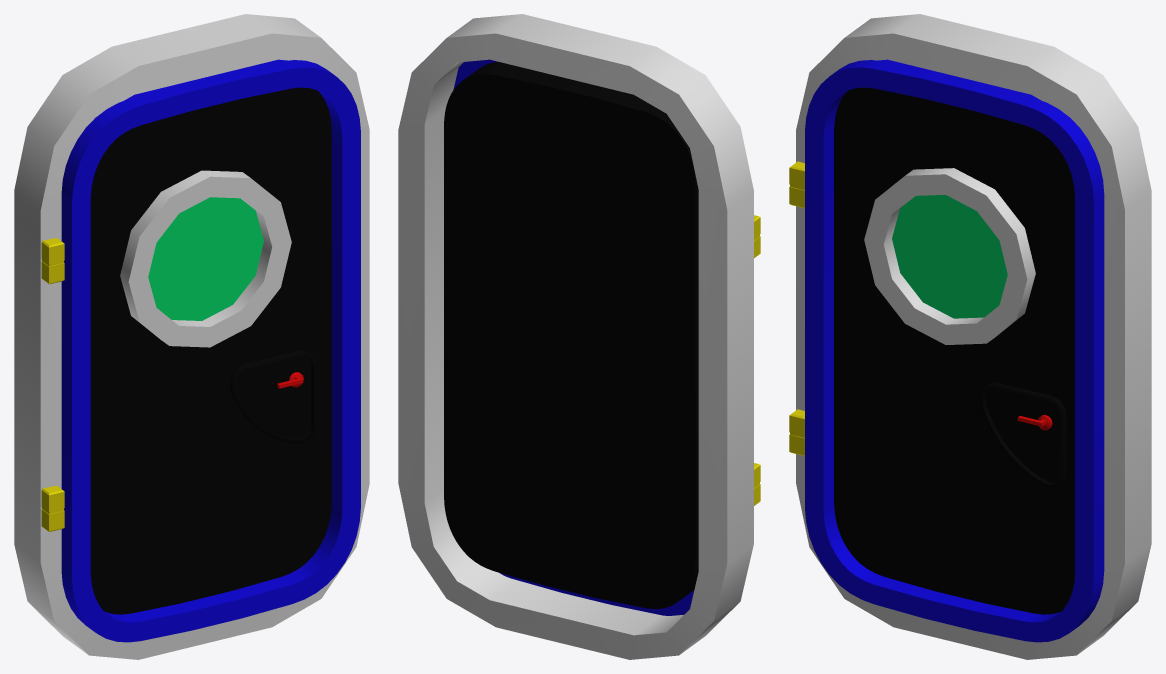
The picture shows the model from 3 angles, left to right: view 1: azimuth 30°, elevation 25°; view 2: azimuth 150°, elevation 25°; view 3: azimuth 330°, elevation 25°; orthographic projection.
Parts seen in each view (by area): view 1: Object001; view 2: Object001; view 3: Object001.
Boxes of the visible parts, x1=… form: Object001: x1=14, y1=14, x2=369, y2=659; Object001: x1=398, y1=14, x2=760, y2=659; Object001: x1=789, y1=14, x2=1151, y2=659.
Size of the model in its own units: 165 by 284 by 33.63.
